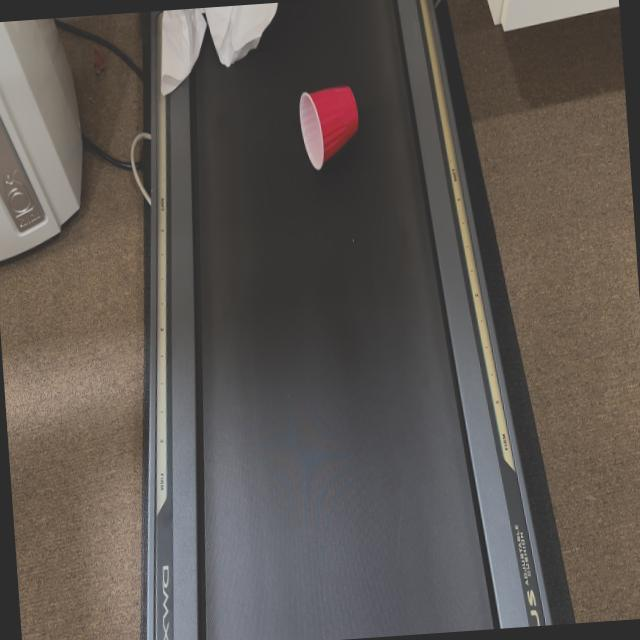Recycle: (154, 2, 285, 95), (294, 85, 364, 173)
